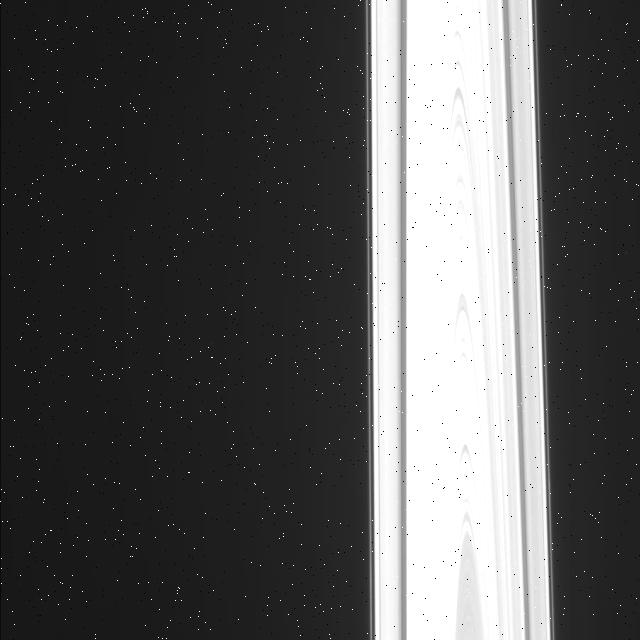Saturn: (361, 0, 558, 640)
